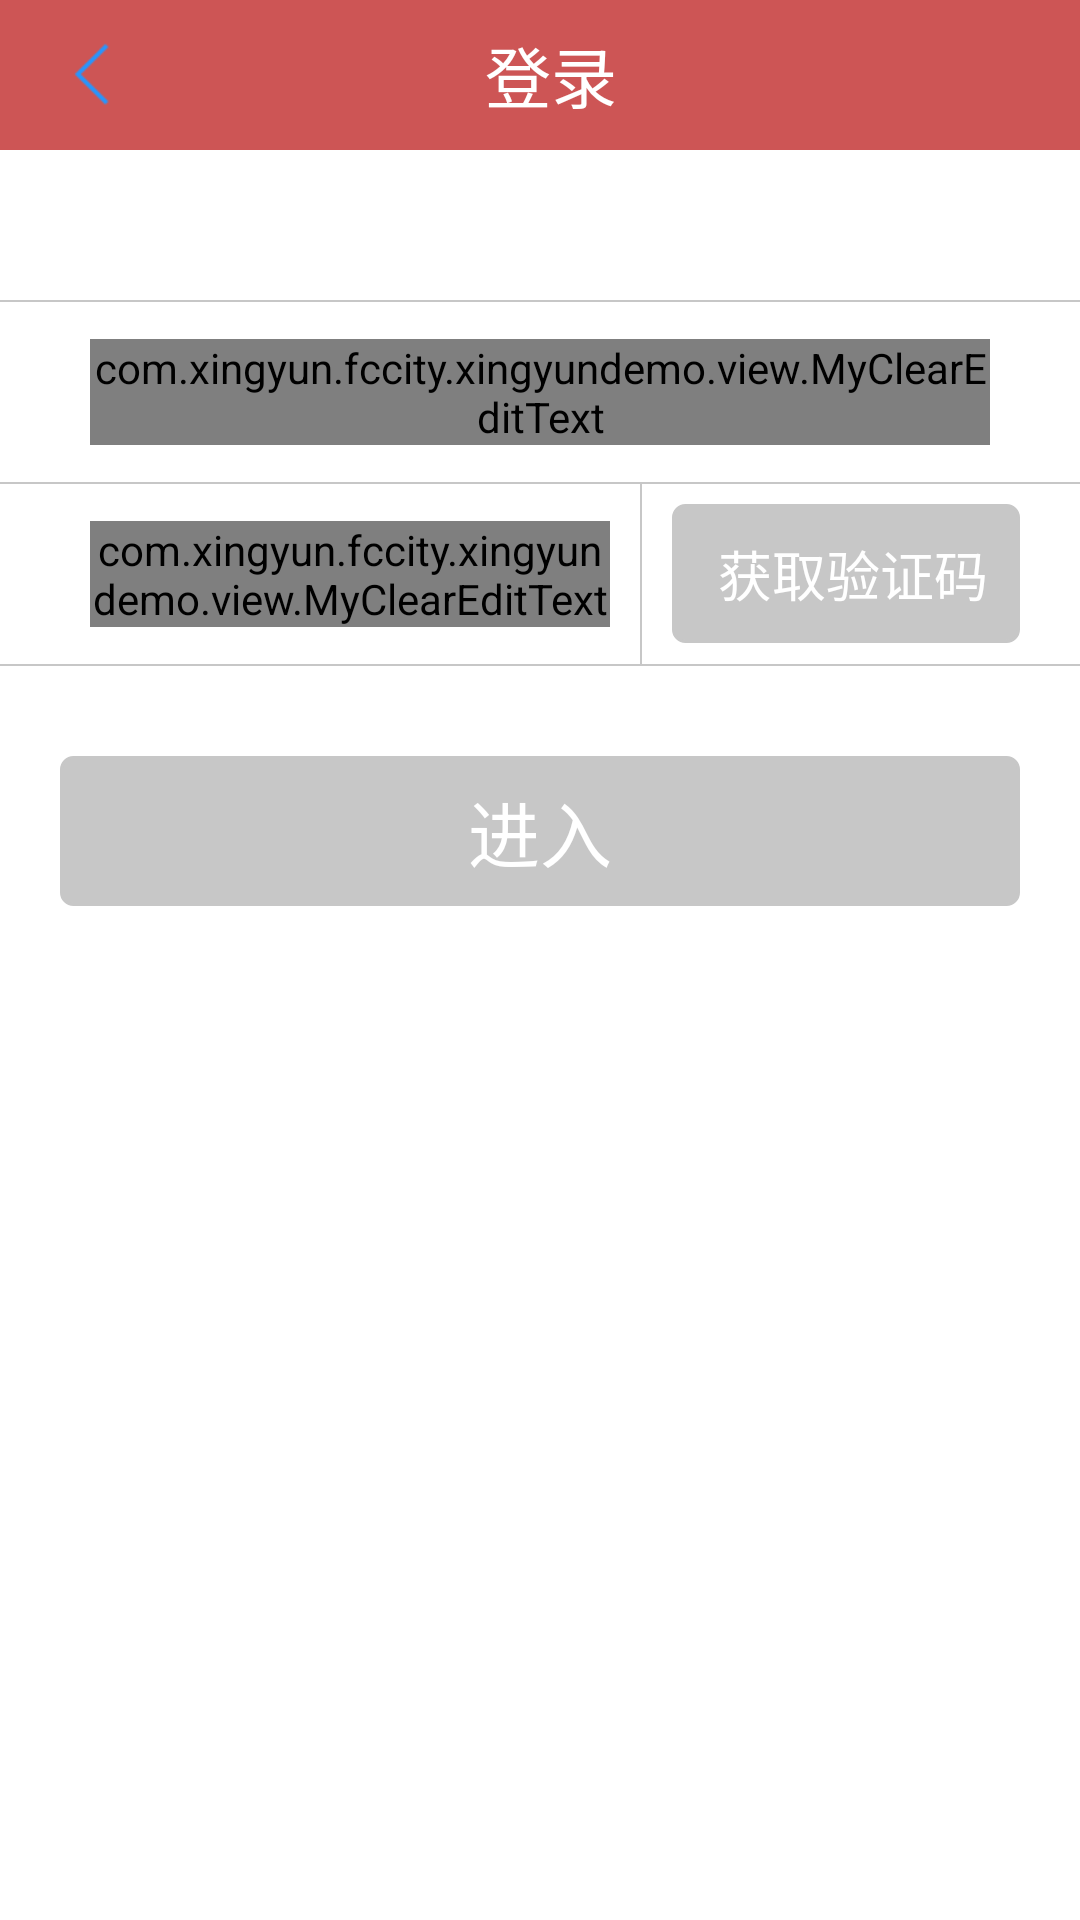

Point at icon controls on the screen. Image size 1080px×1920px, points as point (x, y).
title back: point (92, 74)
